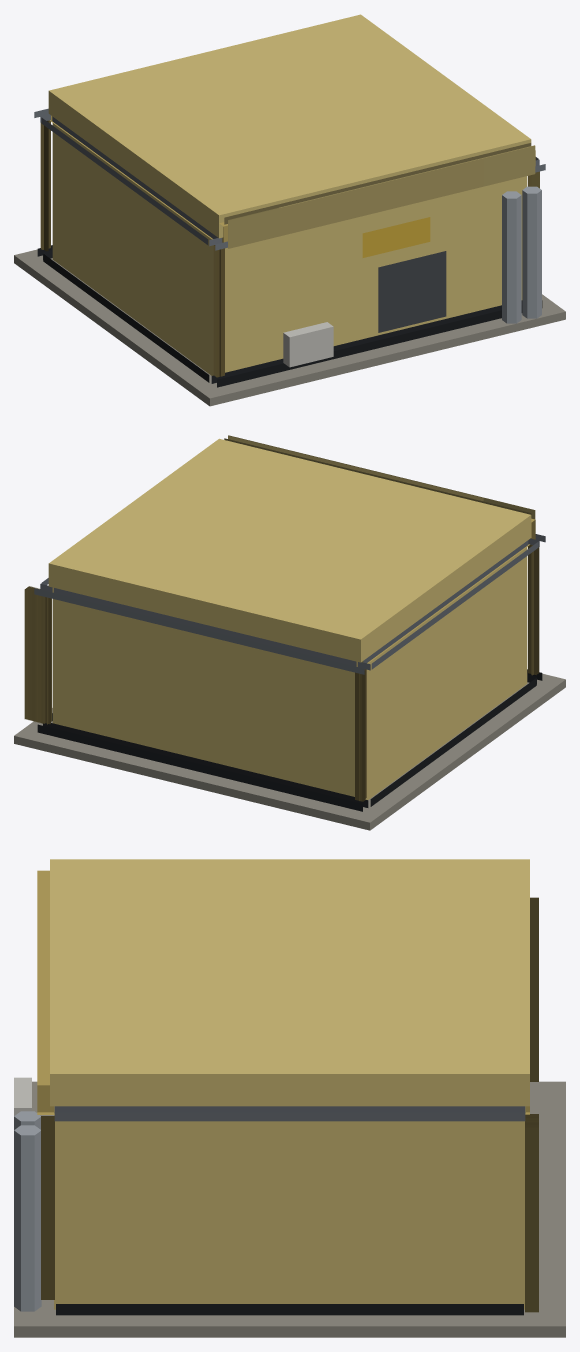
The model's file is CheeseVaultHeartSil.fbx.
3 views of the same model, one above another, from view 1: azimuth 30°, elevation 25°; view 2: azimuth 150°, elevation 25°; view 3: azimuth 270°, elevation 25° (orthographic). The views are drawn at different scales.
Visible parts, largest first — view 1: VH_S_All; view 2: VH_S_All; view 3: VH_S_All.
Boxes of the visible parts, x1=… form: VH_S_All: x1=14, y1=14, x2=565, y2=406; VH_S_All: x1=14, y1=435, x2=565, y2=830; VH_S_All: x1=14, y1=859, x2=565, y2=1337.
Size of the model in its own units: 42.04 by 19.9 by 40.04.
